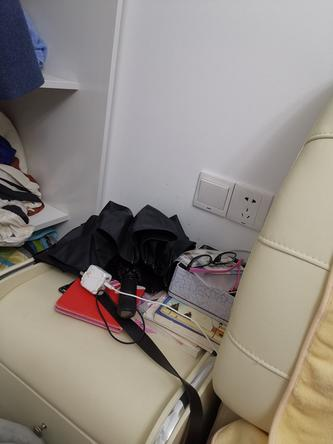switch: (196, 175, 230, 211)
